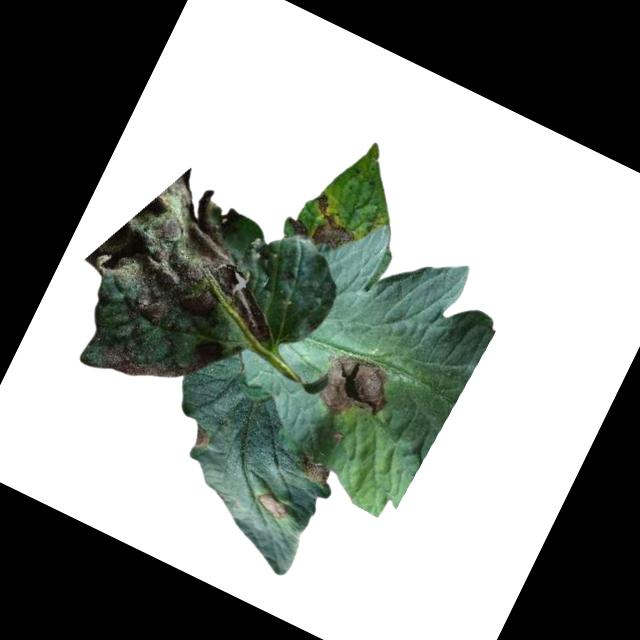Early_blight: (45, 146, 321, 434), (308, 343, 399, 433), (298, 190, 368, 260), (290, 452, 333, 489), (251, 491, 291, 524), (183, 421, 216, 455), (282, 214, 313, 243)
